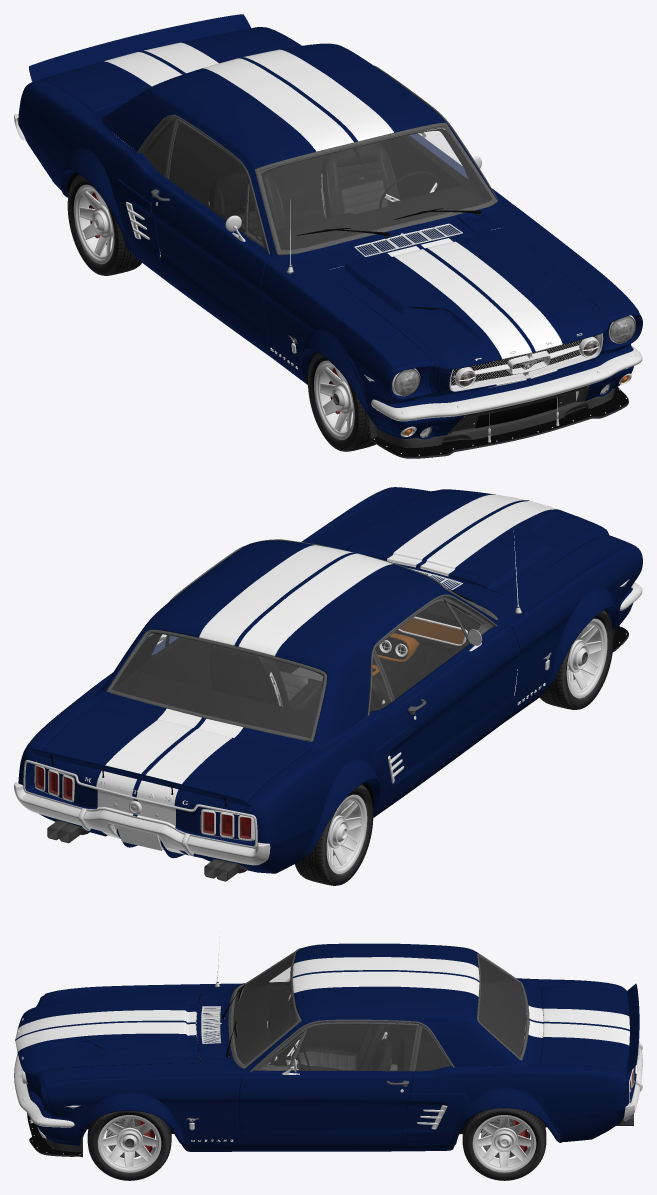
The model's file is ford_mustang_1965.glb.
3 renders of one model, top to bottom at view 1: azimuth 30°, elevation 25°; view 2: azimuth 150°, elevation 25°; view 3: azimuth 270°, elevation 25°, orthographic. The views are drawn at different scales.
Visible parts, largest first — view 1: Object_111, Kapoot_7, Object_16, Sandogh Agha_2, Object_193, Object_104, Object_112, Back Pahloo_53, Object_14, Ring Sport Front_100, Object_101, Object_172 (+15 smaller); view 2: Object_111, Sandogh Agha_2, Object_16, Kapoot_7, Object_104, Object_193, Back Pahloo_53, Object_112, Object_14, Ring Sport Front_100, Object_129, Tire Front_101 (+13 smaller); view 3: Object_111, Object_16, Kapoot_7, Object_193, Sandogh Agha_2, Back Pahloo_53, Object_104, Object_112, Ring Sport Front_100, Tire Front_101, Object_172, Object_14 (+12 smaller).
Part boxes in pixels (x1,y1,x2,y2): Object_111: (94, 43, 642, 424); Kapoot_7: (323, 227, 609, 369); Object_16: (143, 121, 490, 249); Sandogh Agha_2: (29, 14, 604, 422); Object_193: (151, 133, 510, 349); Object_104: (143, 120, 490, 249); Object_112: (203, 49, 557, 385); Back Pahloo_53: (18, 27, 301, 274); Object_14: (208, 142, 399, 238); Ring Sport Front_100: (73, 184, 354, 439); Object_101: (277, 185, 491, 249); Object_172: (136, 65, 498, 255); Object_111: (95, 487, 642, 817); Sandogh Agha_2: (29, 588, 618, 862); Object_16: (112, 602, 479, 737); Kapoot_7: (331, 489, 608, 596); Object_104: (113, 612, 480, 741); Object_193: (157, 625, 519, 786); Back Pahloo_53: (18, 645, 410, 862); Object_112: (157, 545, 392, 737); Object_14: (208, 644, 409, 726); Ring Sport Front_100: (326, 618, 607, 873); Object_129: (14, 782, 270, 865); Tire Front_101: (295, 610, 613, 885); Object_111: (25, 943, 543, 1151); Object_16: (233, 954, 525, 1070); Kapoot_7: (15, 993, 200, 1075); Object_193: (238, 983, 412, 1144); Sandogh Agha_2: (77, 983, 639, 1144); Back Pahloo_53: (400, 978, 630, 1144); Object_104: (228, 952, 526, 1071); Object_112: (292, 957, 543, 1037); Ring Sport Front_100: (98, 1036, 536, 1172); Tire Front_101: (87, 1019, 546, 1180); Object_172: (228, 948, 529, 1086); Object_14: (297, 1022, 392, 1070).
Bounding box in the file's own units: 0.7676 × 0.5963 × 1.92.
Materials: 48 (19 with a texture image).
